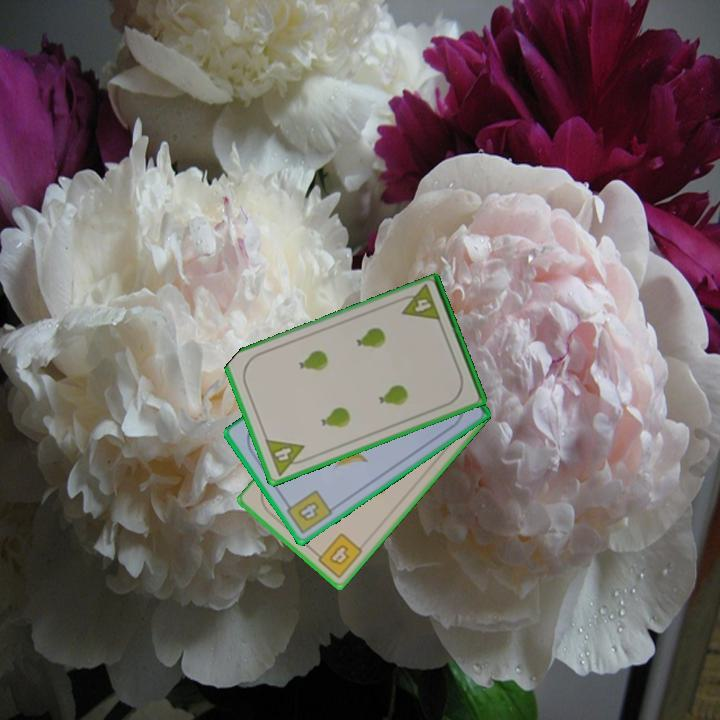4b: (310, 530, 366, 581), (281, 486, 335, 537)
4p: (261, 436, 312, 479), (394, 282, 444, 325)
